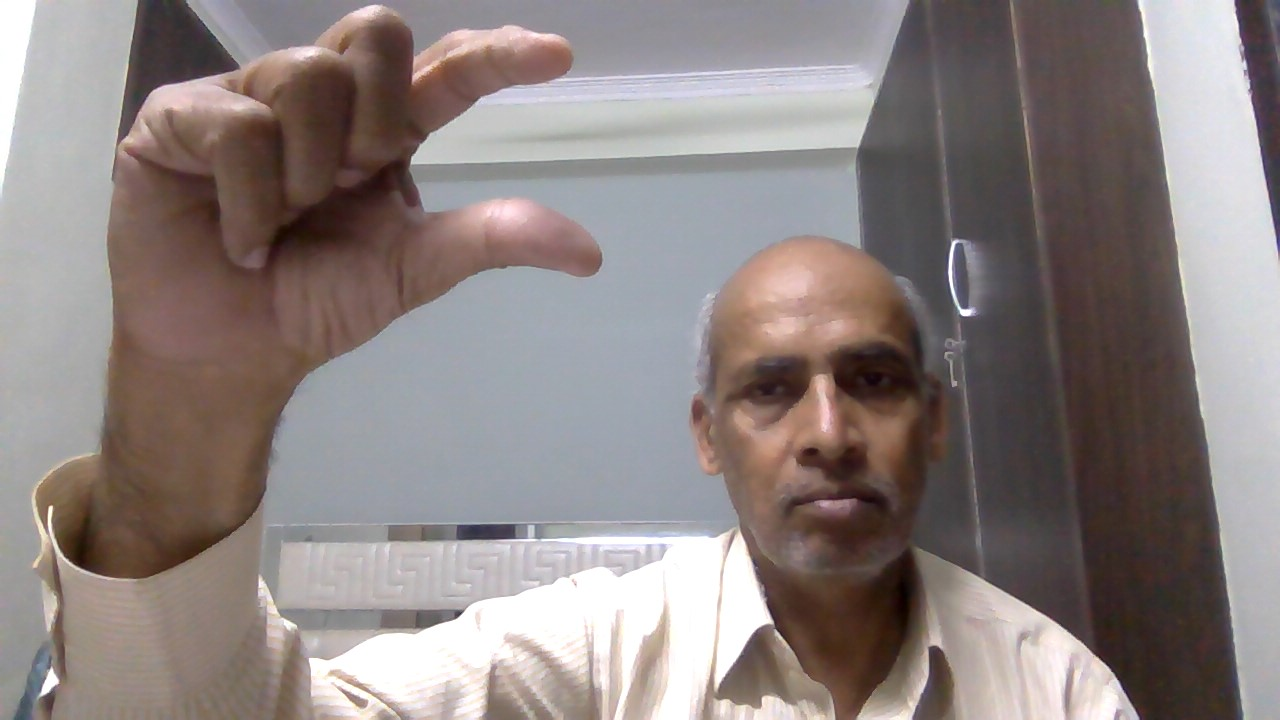Paste: (99, 11, 623, 387)
